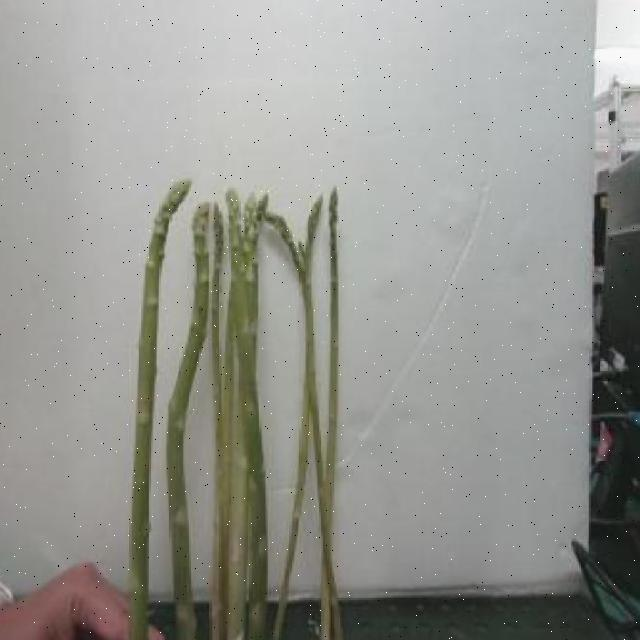aspargus: (262, 211, 345, 640), (132, 180, 192, 640), (166, 201, 210, 640)
